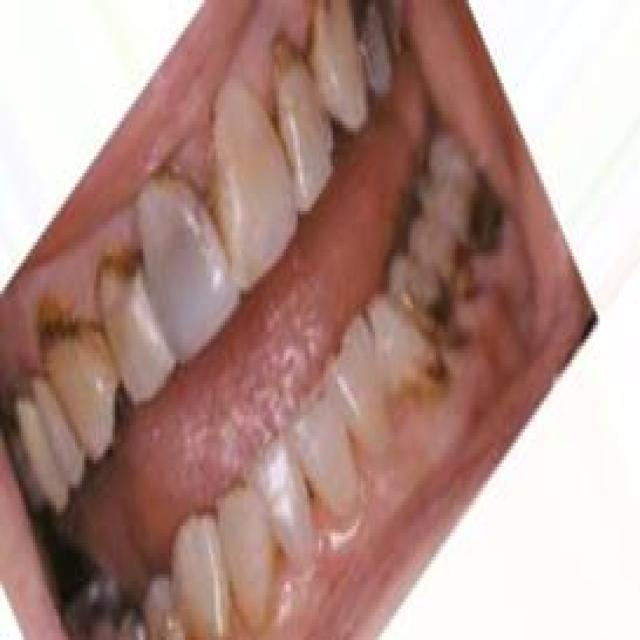caries: (25, 288, 91, 382), (415, 279, 473, 358), (440, 230, 485, 300), (100, 231, 147, 298)
